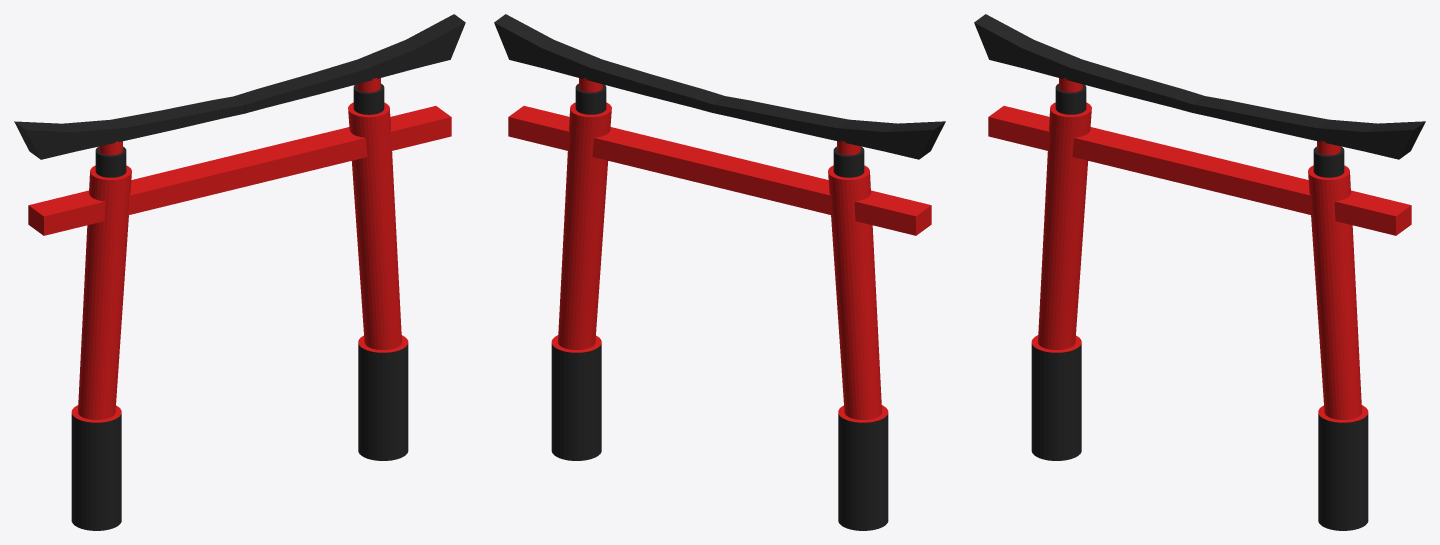
The model's file is Tori gate.gltf.
The picture shows the model from 3 angles, left to right: view 1: azimuth 30°, elevation 25°; view 2: azimuth 150°, elevation 25°; view 3: azimuth 330°, elevation 25°; orthographic projection.
Parts seen in each view (by area): view 1: Cylinder.001; view 2: Cylinder.001; view 3: Cylinder.001.
Boxes of the visible parts, x1=… form: Cylinder.001: x1=14, y1=14, x2=465, y2=530; Cylinder.001: x1=494, y1=14, x2=945, y2=530; Cylinder.001: x1=974, y1=14, x2=1425, y2=530.
Bounding box in the file's own units: 18.14 × 16.28 × 1.79.
